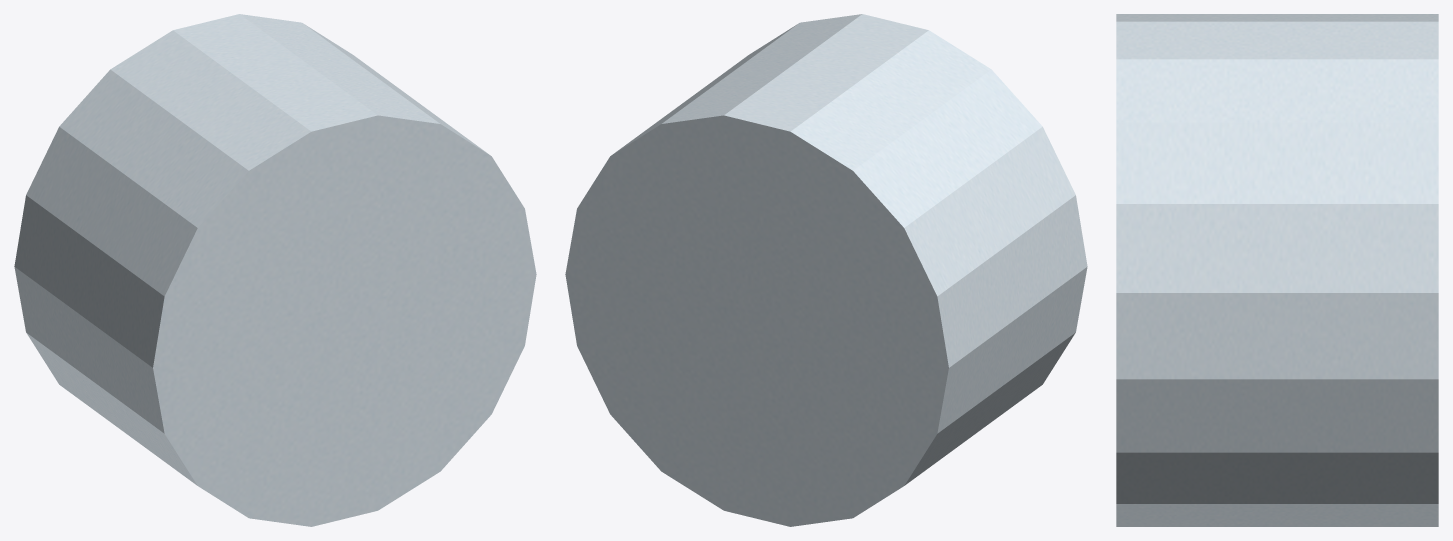
The model's file is zbq-11m632545-geode.glb.
3 views of the same model, side by side, from view 1: azimuth 30°, elevation 25°; view 2: azimuth 150°, elevation 25°; view 3: azimuth 270°, elevation 25° (orthographic). The views are drawn at different scales.
Parts seen in each view (by area): view 1: Node; view 2: Node; view 3: Node.
Part boxes in pixels (x1,y1,x2,y2): Node: [14, 14, 536, 526]; Node: [565, 14, 1087, 526]; Node: [1116, 14, 1438, 526].
Bounding box in the file's own units: 1.58 × 1.56 × 0.9888.
Materials: 1 (1 with a texture image).
